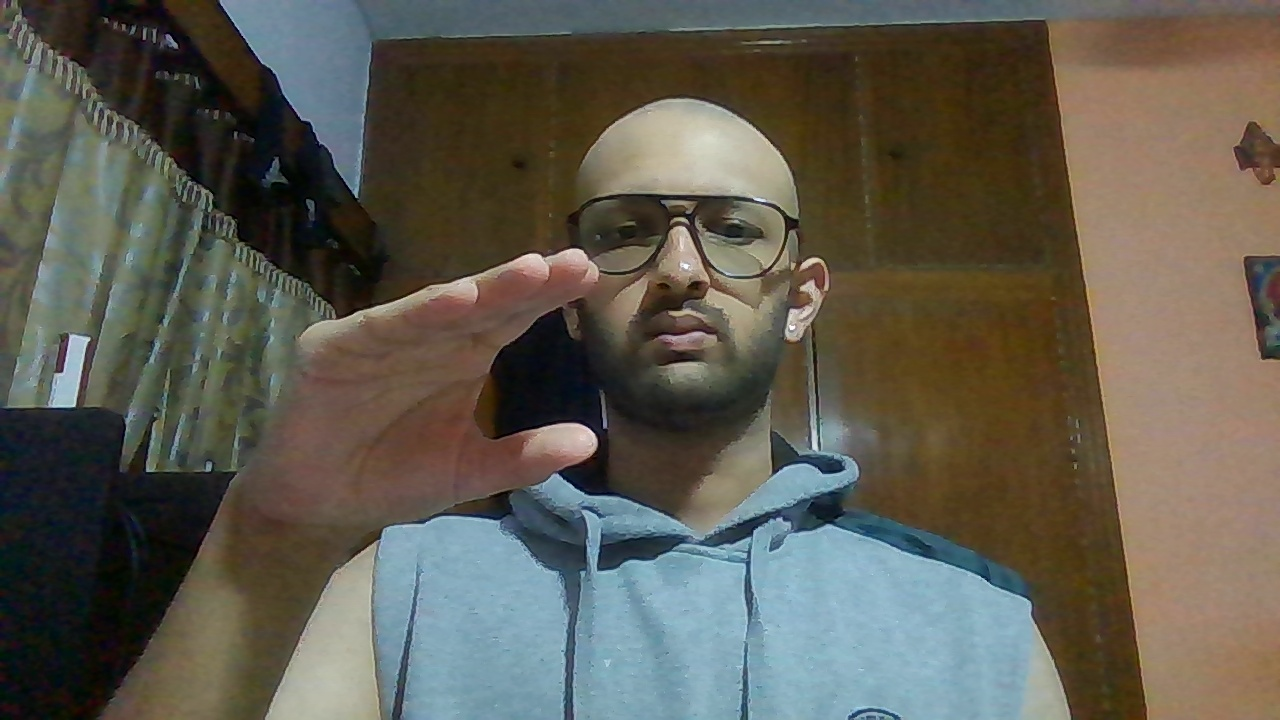No: (250, 244, 604, 540)
